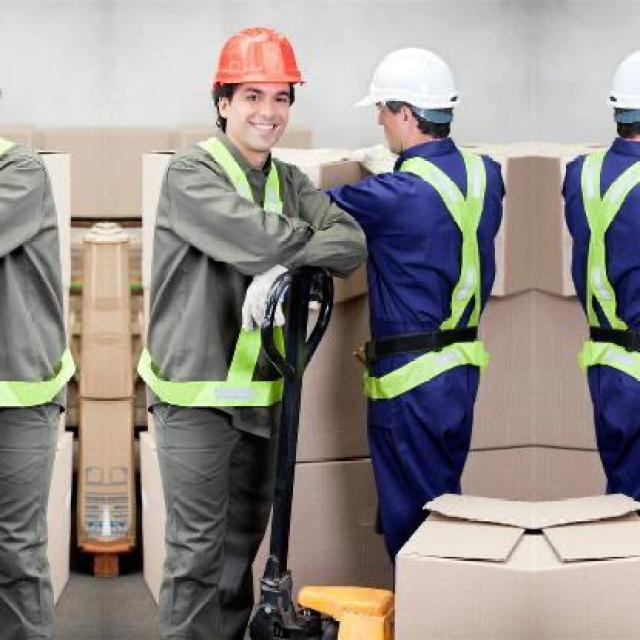reflective_jacket: (130, 138, 325, 419), (356, 146, 510, 403), (0, 106, 88, 420), (560, 133, 639, 392)
safety_helmet: (350, 38, 472, 121), (199, 18, 314, 99), (598, 40, 639, 120)
